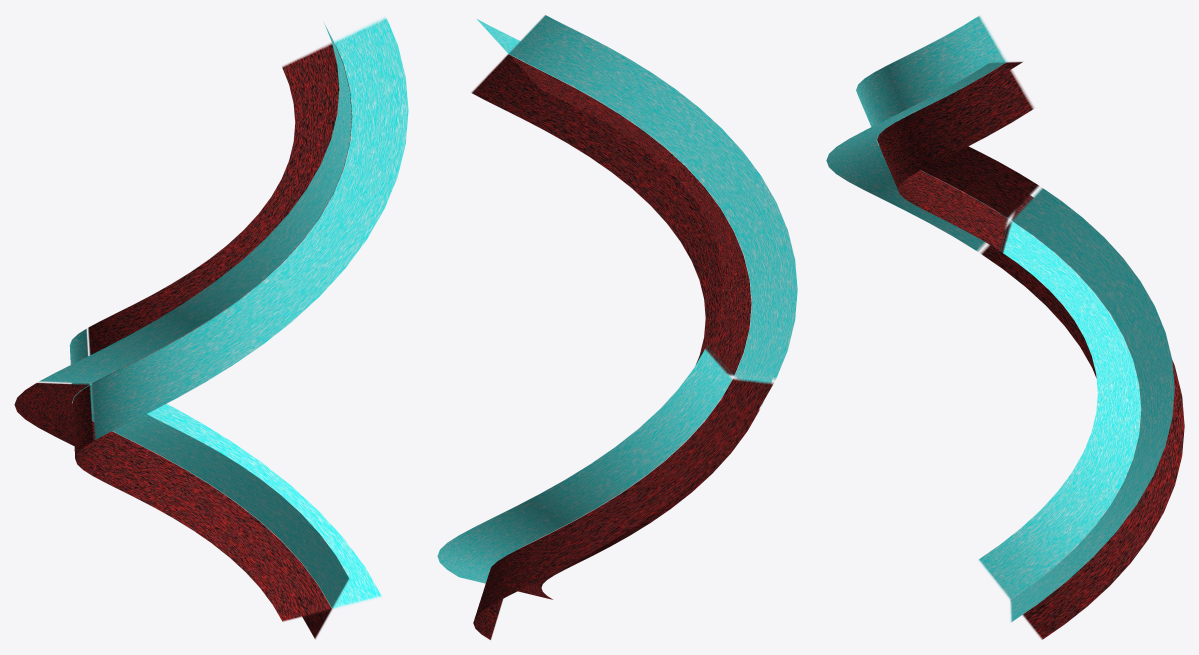
The picture shows the model from 3 angles, left to right: view 1: azimuth 30°, elevation 25°; view 2: azimuth 150°, elevation 25°; view 3: azimuth 270°, elevation 25°; orthographic projection. The views are drawn at different scales.
Parts seen in each view (by area): view 1: SM_Cyl_Tor_Helix_02_LOD0; view 2: SM_Cyl_Tor_Helix_02_LOD0; view 3: SM_Cyl_Tor_Helix_02_LOD0.
Part boxes in pixels (x1,y1,x2,y2): SM_Cyl_Tor_Helix_02_LOD0: (14,16,408,639); SM_Cyl_Tor_Helix_02_LOD0: (437,15,797,639); SM_Cyl_Tor_Helix_02_LOD0: (826,15,1184,639).
Size of the model in its own units: 0.6769 by 1.23 by 0.6519.
Materials: 1 (1 with a texture image).
